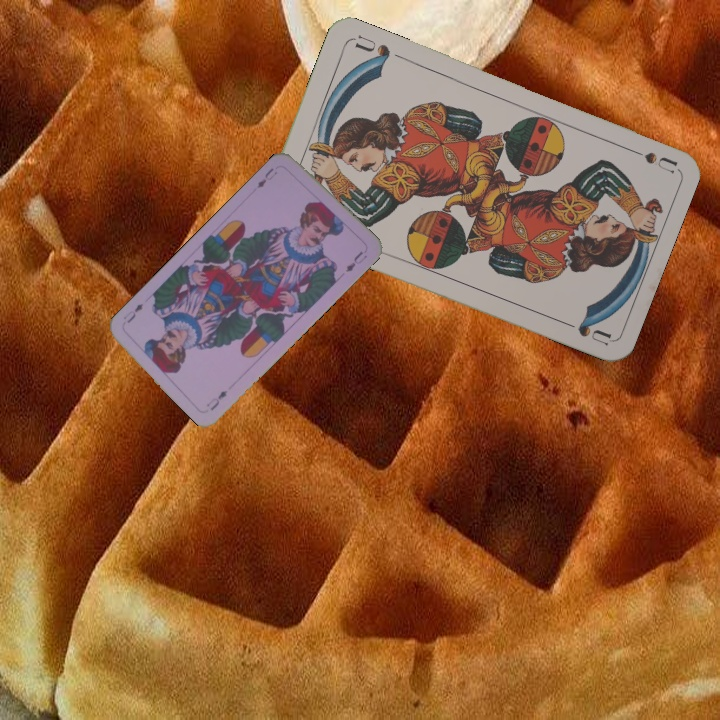EU: (202, 386, 230, 413), (253, 164, 280, 191)
SU: (620, 142, 678, 176)
